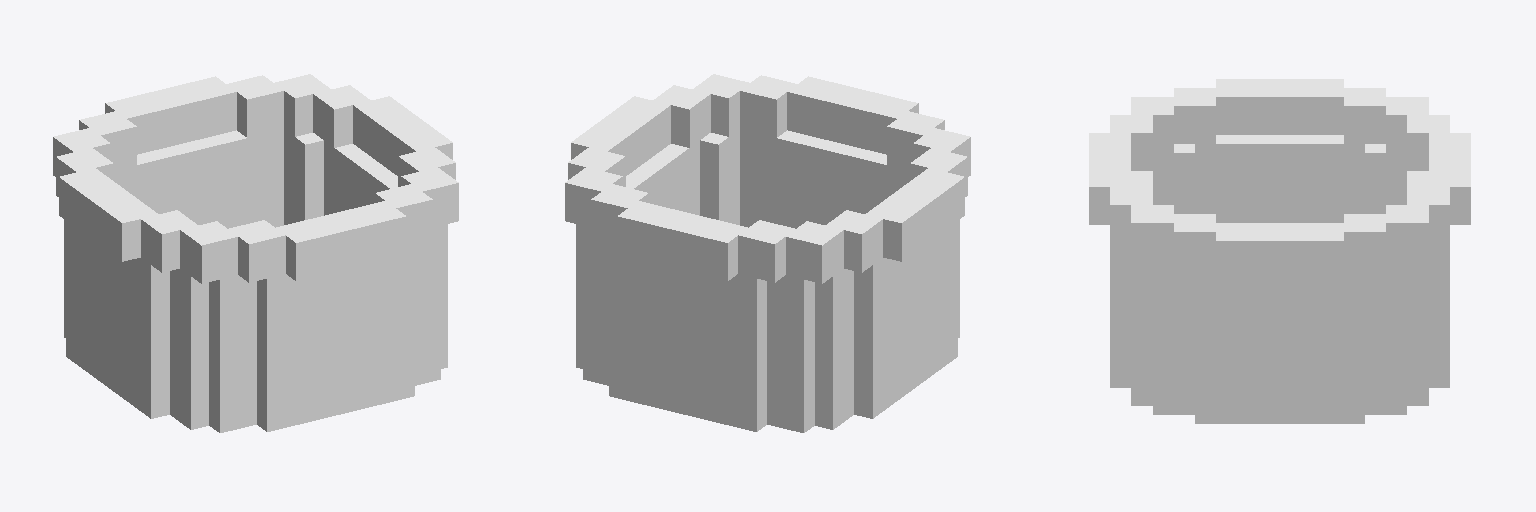
File: Ramakin.obj
3 views of the same model, side by side, from view 1: azimuth 30°, elevation 25°; view 2: azimuth 150°, elevation 25°; view 3: azimuth 270°, elevation 25° (orthographic).
Parts seen in each view (by area): view 1: object 1; view 2: object 1; view 3: object 1.
Part boxes in pixels (bbox=[...]): object 1: bbox=[53, 74, 458, 432]; object 1: bbox=[565, 74, 970, 432]; object 1: bbox=[1089, 79, 1470, 423].
Bounding box in the file's own units: 1.8 × 1 × 1.8.